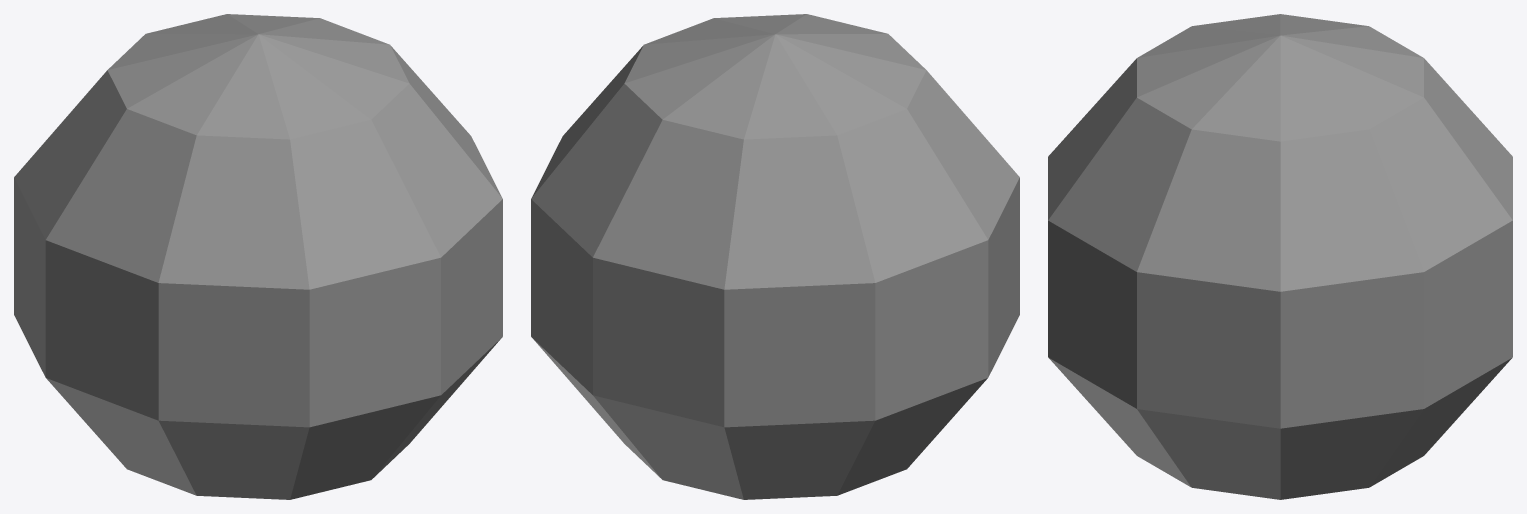
The model's file is Asteroid.gltf.
3 views of the same model, side by side, from view 1: azimuth 30°, elevation 25°; view 2: azimuth 150°, elevation 25°; view 3: azimuth 270°, elevation 25° (orthographic).
Parts seen in each view (by area): view 1: sphere; view 2: sphere; view 3: sphere.
Boxes of the visible parts, left/top/right/bottom form: sphere: left=14, top=14, right=502, bottom=499; sphere: left=531, top=14, right=1019, bottom=499; sphere: left=1048, top=14, right=1512, bottom=499.
Bounding box in the file's own units: 0.0625 × 0.0625 × 0.0594.
1 material, 1 textured.
